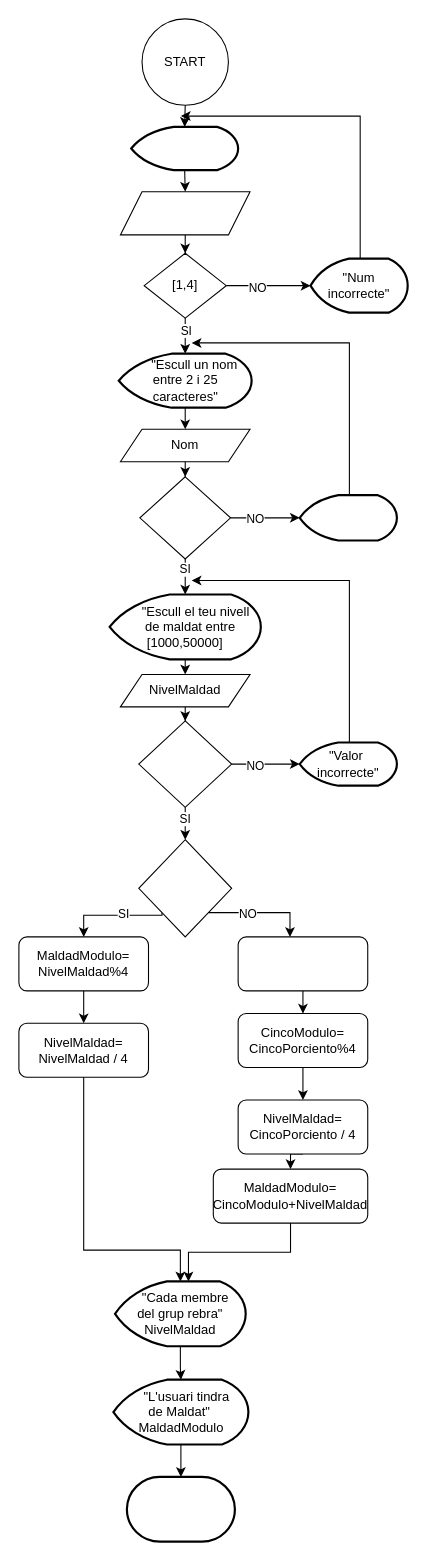
The diagram is 428 pixels wide and 1562 high, and some of its shapes have lost their labels. Each missing label, with the centre of its shape:
"Escull entre [1,4]": point 184,148
"Nom incorrecte": point 347,517
CincoPorciento= NivelMaldad*0.05: point 302,963
END: point 180,1508
entre [1000,50000]: point 185,763
entre [2,25] caracteres: point 185,517
Nom conte 2 vocals: point 185,888
NumAvatar: point 184,213
